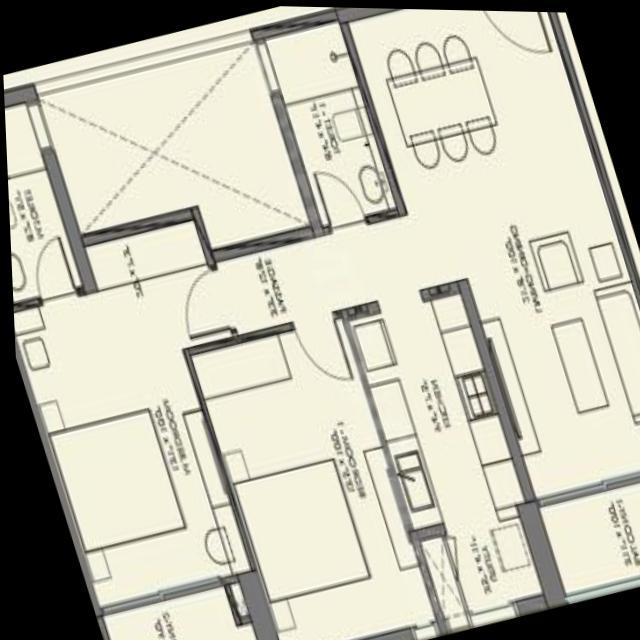Balcony-Sitout: (512, 464, 640, 606), (86, 565, 272, 640)
Bedroom: (179, 306, 442, 640)
Bedroom with Toilet: (11, 270, 256, 618)
Dining: (368, 26, 511, 181)
Enterance-Foyer: (478, 8, 571, 103)
Kitchen: (335, 274, 532, 532)
Living: (439, 190, 640, 508)
Toilet: (246, 6, 406, 238), (3, 81, 92, 310)
Utility: (401, 492, 564, 634)
